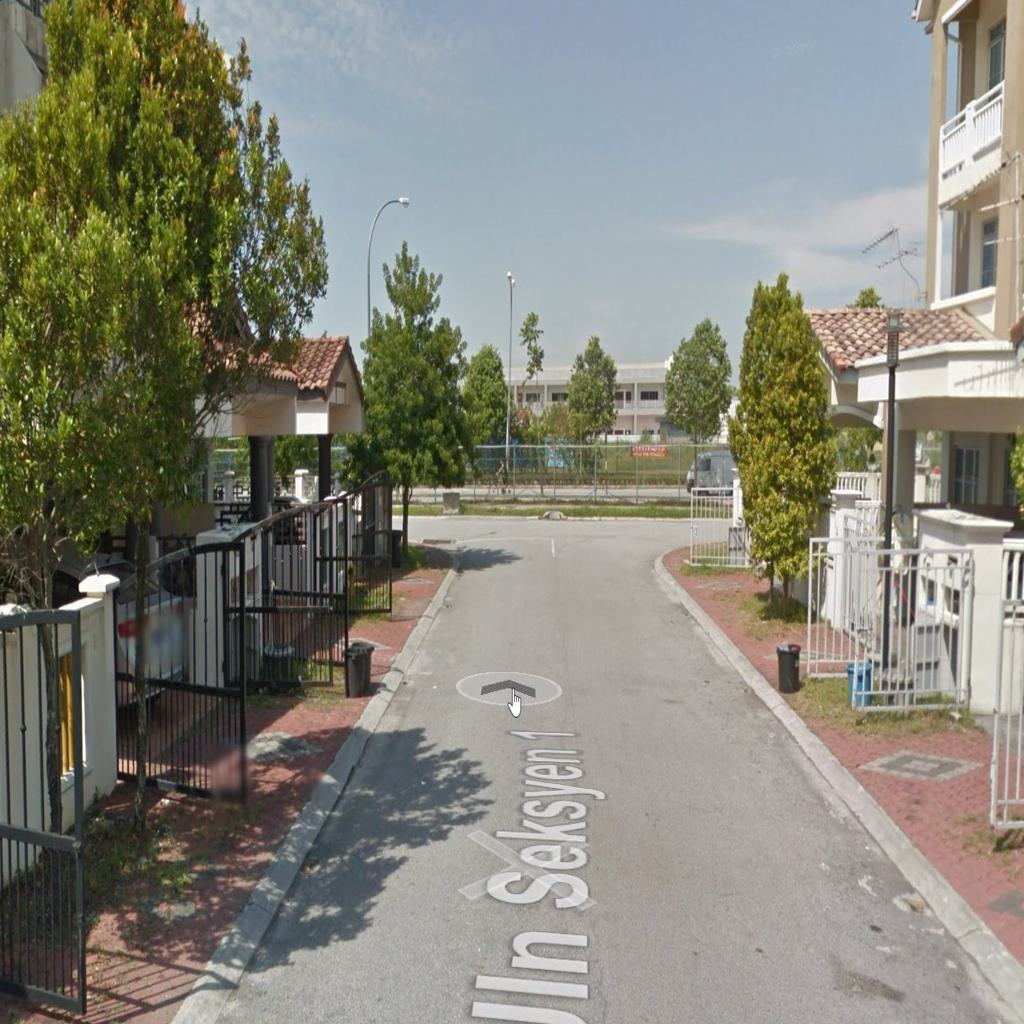Junction: (630, 498, 742, 587), (399, 493, 501, 578)
